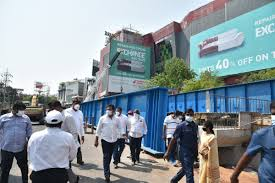mask: (12, 99, 26, 116), (199, 119, 213, 134), (184, 106, 195, 122), (72, 96, 81, 111), (105, 103, 114, 116), (114, 106, 122, 117), (133, 109, 140, 118)
